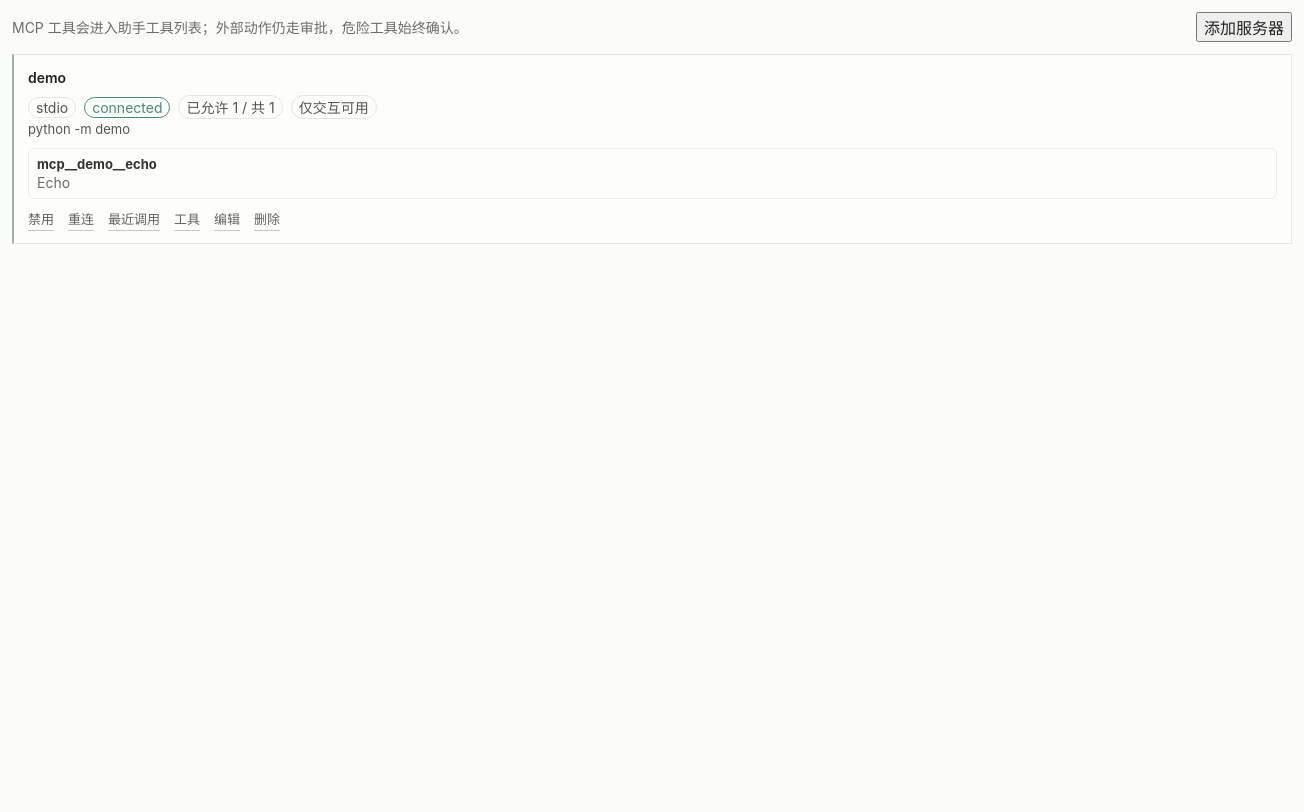
Test: F1 添加表单 / 编辑表单互斥（M2） › 点「添加服务器」会关掉编辑表单
Click the button "编辑". click: {"x": 227, "y": 219}
box: [214,207,240,231]
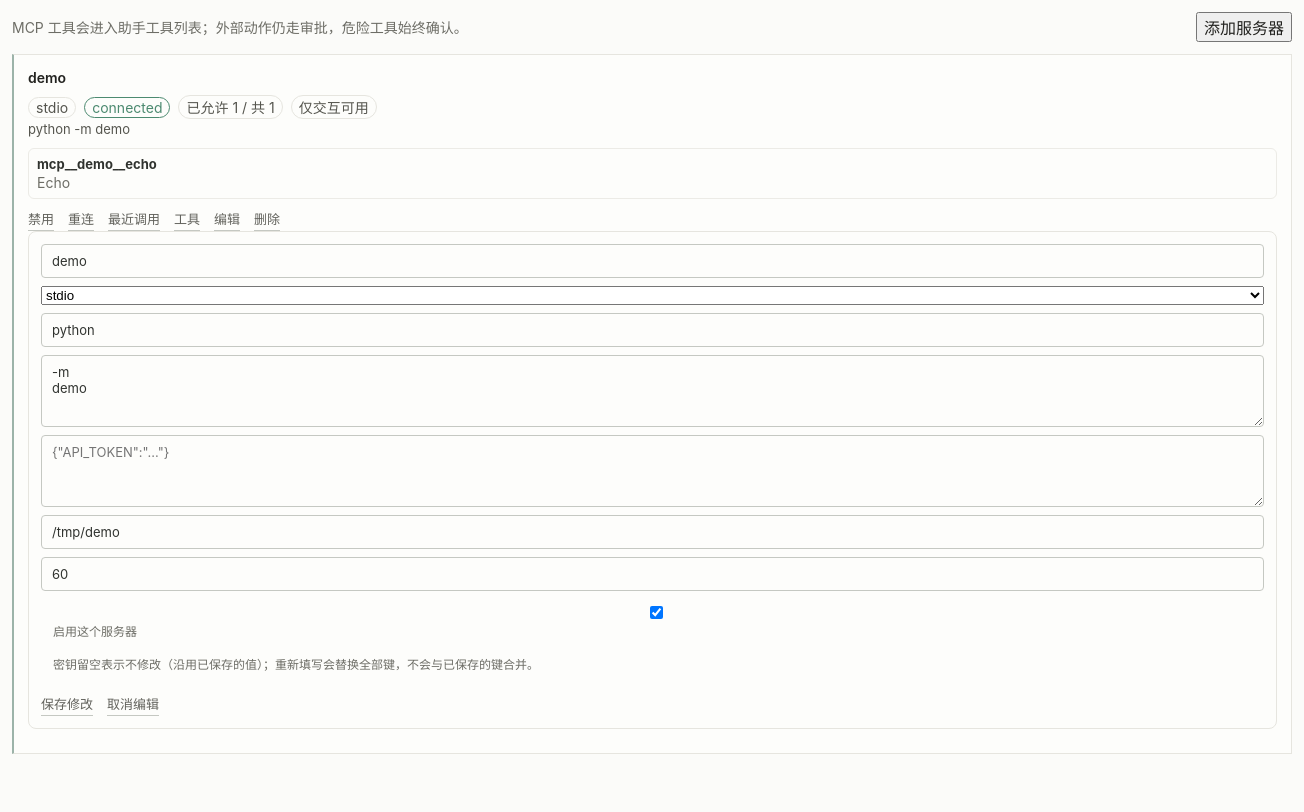
Expected: the field named "编辑服务器名称" is shown, [41,244,1264,278]
Click the button "添加服务器". click: {"x": 1244, "y": 27}
box: [1196,12,1292,42]
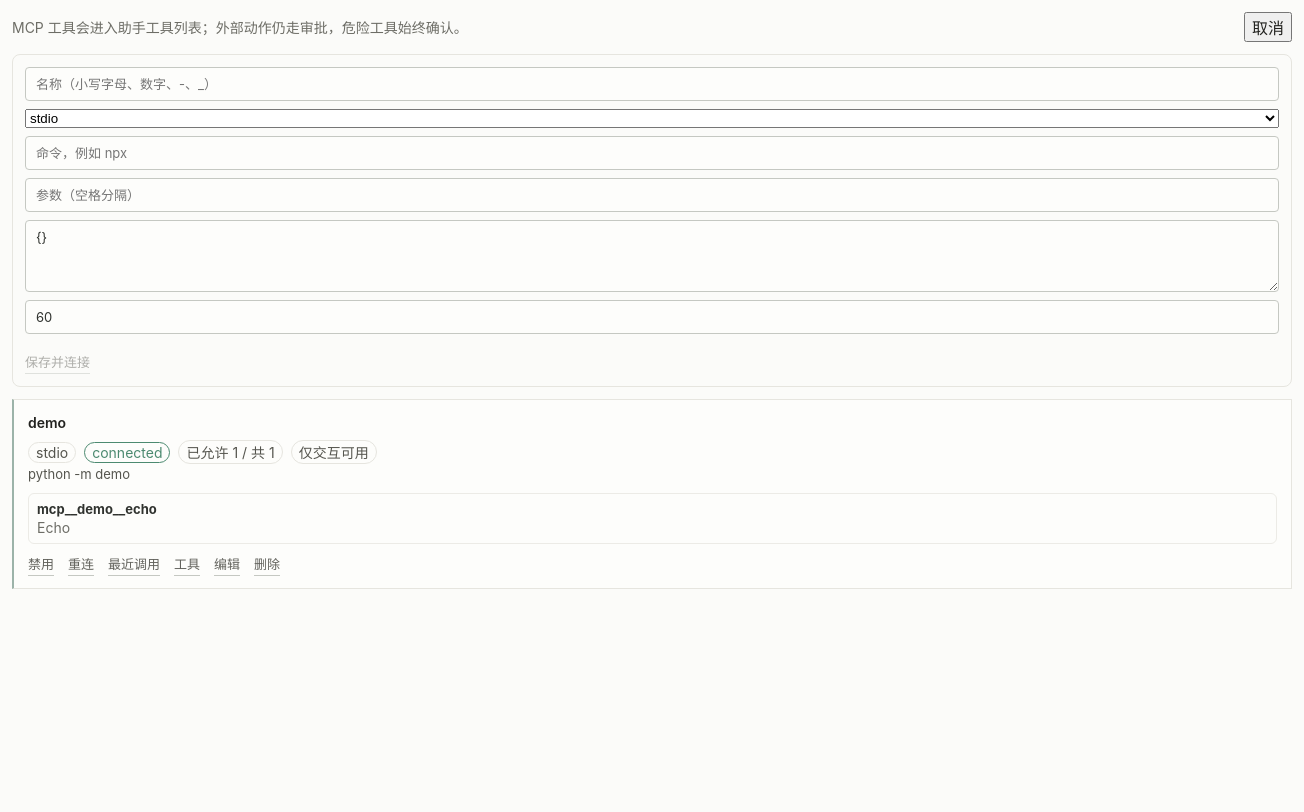
Expected: the field named "服务器名称" is shown, [25,67,1279,101]
Expected: the field named "编辑服务器名称" is gone
